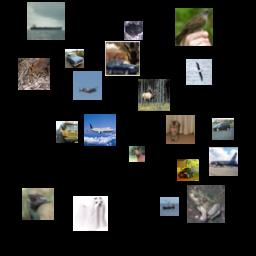airplane: (84, 114, 116, 146), (209, 147, 238, 176), (73, 71, 102, 100)
automobile: (105, 41, 140, 76), (177, 159, 199, 181), (212, 118, 234, 140), (65, 49, 84, 68)
bird: (175, 8, 213, 46), (22, 188, 54, 220), (186, 59, 212, 85)
cat: (166, 115, 195, 144), (124, 21, 143, 40)
deer: (138, 79, 170, 111), (18, 58, 50, 90)
dog: (73, 196, 108, 231)
frog: (187, 185, 225, 223)
ship: (27, 2, 65, 40), (160, 197, 179, 216)
truck: (56, 121, 78, 143)
